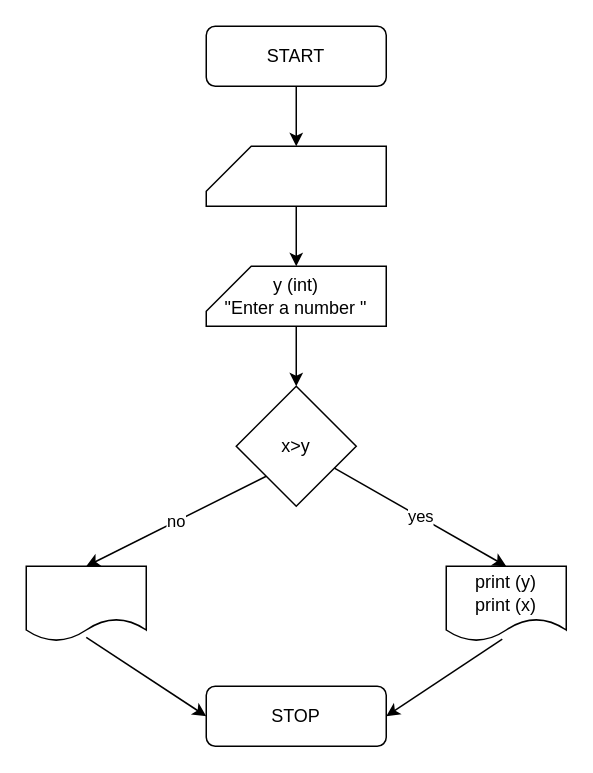
Some shapes in this 593 by 773 pixel diagram are drawn without their labels. Here are the shapes that lost their labels. From the top down, the box of each, then its label:
(205, 145, 386, 206): x (int) "Enter a number "
(25, 565, 146, 641): print (x) print (y)
